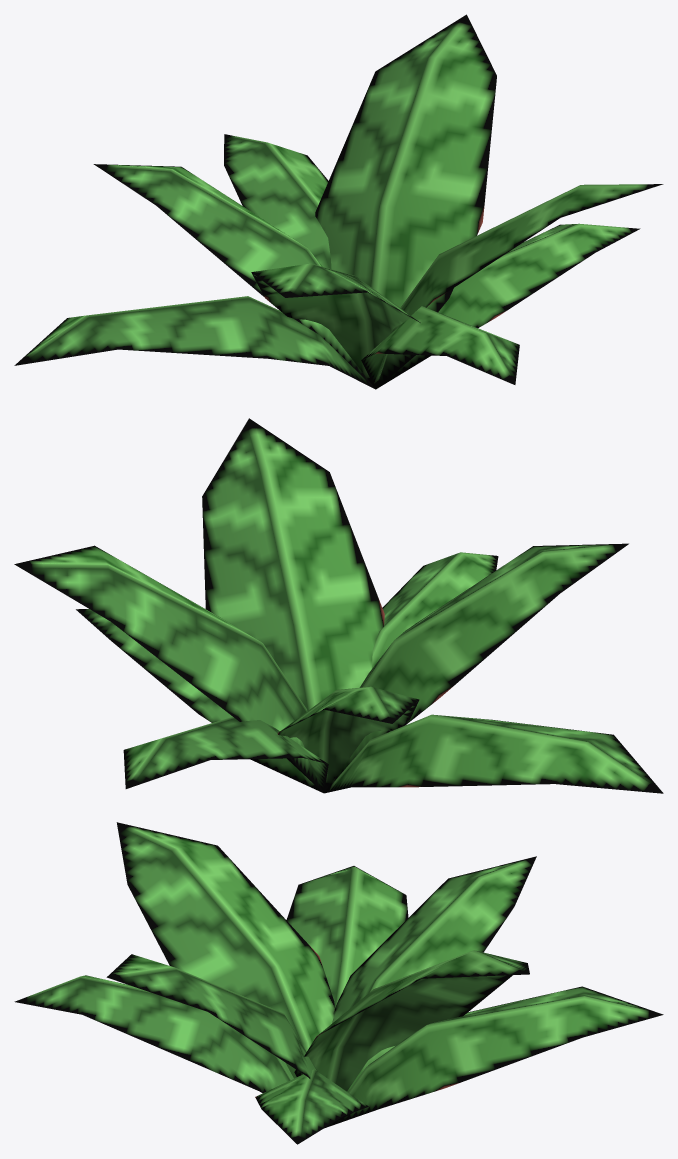
File: deco_bushLarge.FBX
3 views of the same model, one above another, from view 1: azimuth 30°, elevation 25°; view 2: azimuth 150°, elevation 25°; view 3: azimuth 270°, elevation 25° (orthographic). The views are drawn at different scales.
Parts seen in each view (by area): view 1: deco_bushLarge; view 2: deco_bushLarge; view 3: deco_bushLarge.
Part boxes in pixels (<box>): deco_bushLarge: <box>14,14,663,389</box>; deco_bushLarge: <box>14,418,663,793</box>; deco_bushLarge: <box>14,822,663,1144</box>.
Bounding box in the file's own units: 1.84 × 0.7376 × 1.74.
1 material, 1 textured.
